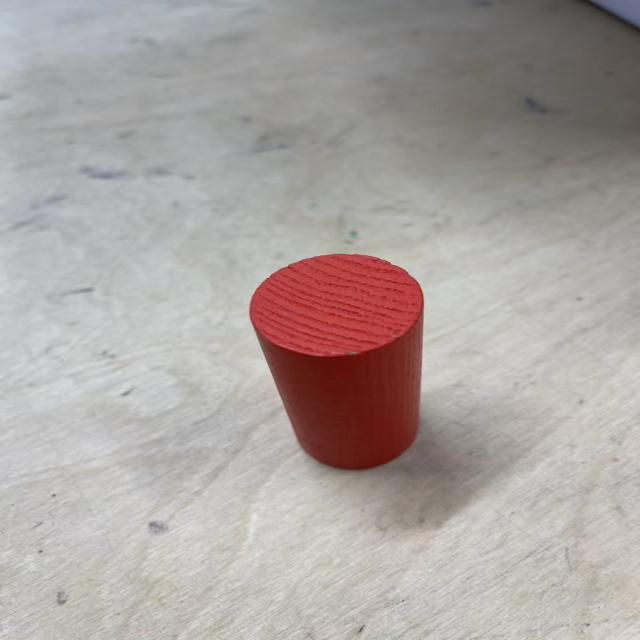red_cylinder: (247, 252, 429, 468)
